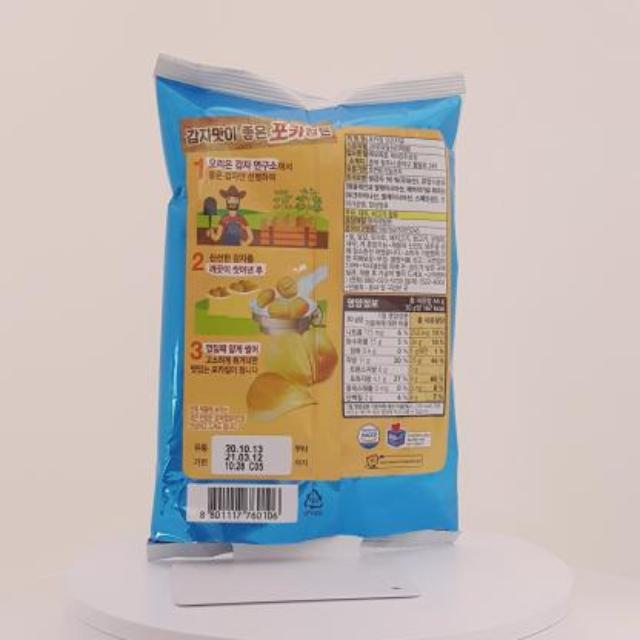snack_bag: (134, 43, 490, 587)
